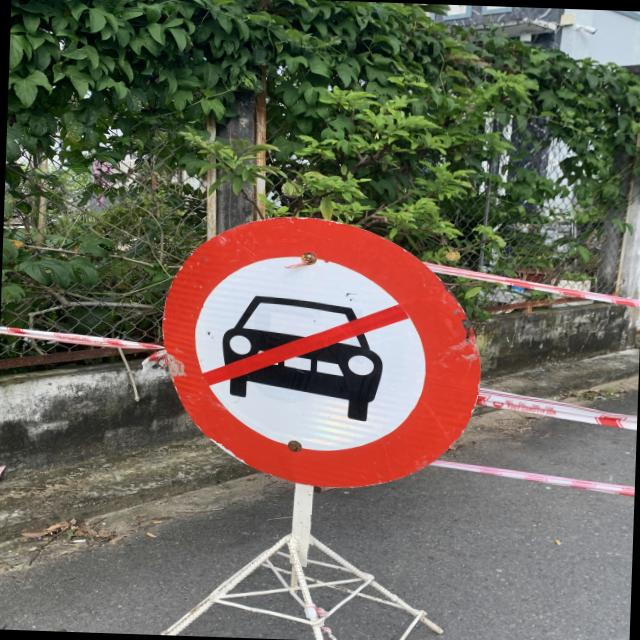Cam_O_To: (158, 213, 486, 492)
